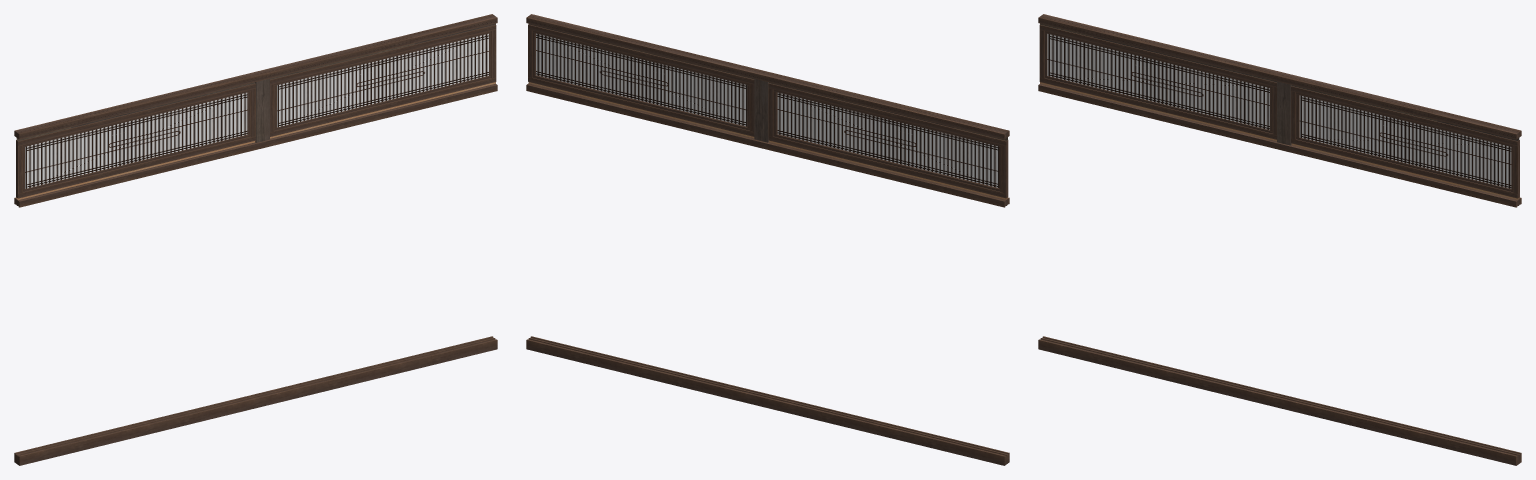
Rendered from jov_inwall_ranma_2t06.fbx.
The picture shows the model from 3 angles, left to right: view 1: azimuth 30°, elevation 25°; view 2: azimuth 150°, elevation 25°; view 3: azimuth 330°, elevation 25°; orthographic projection.
Visible parts, largest first — view 1: jov_inwall_ranma_2t06; view 2: jov_inwall_ranma_2t06; view 3: jov_inwall_ranma_2t06.
Part boxes in pixels (x1,y1,x2,y2): jov_inwall_ranma_2t06: (14,14,497,465); jov_inwall_ranma_2t06: (526,14,1009,465); jov_inwall_ranma_2t06: (1038,14,1521,465).
Bounding box in the file's own units: 440 × 292 × 8.22.
